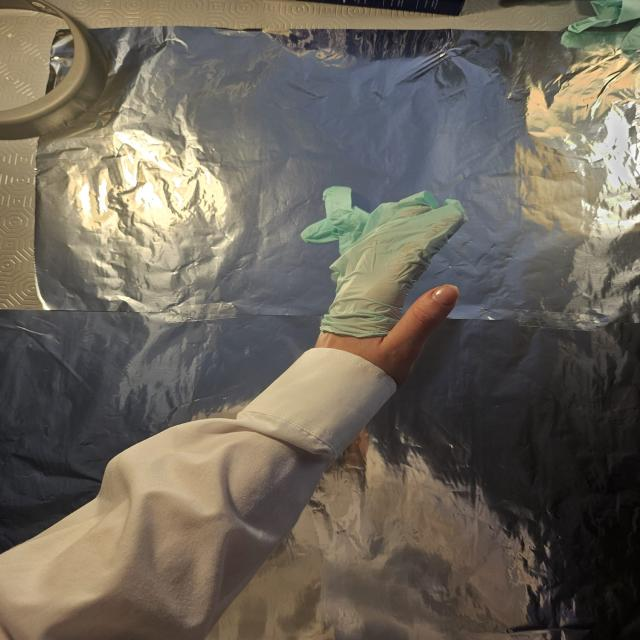glove_partial: (297, 185, 469, 385)
